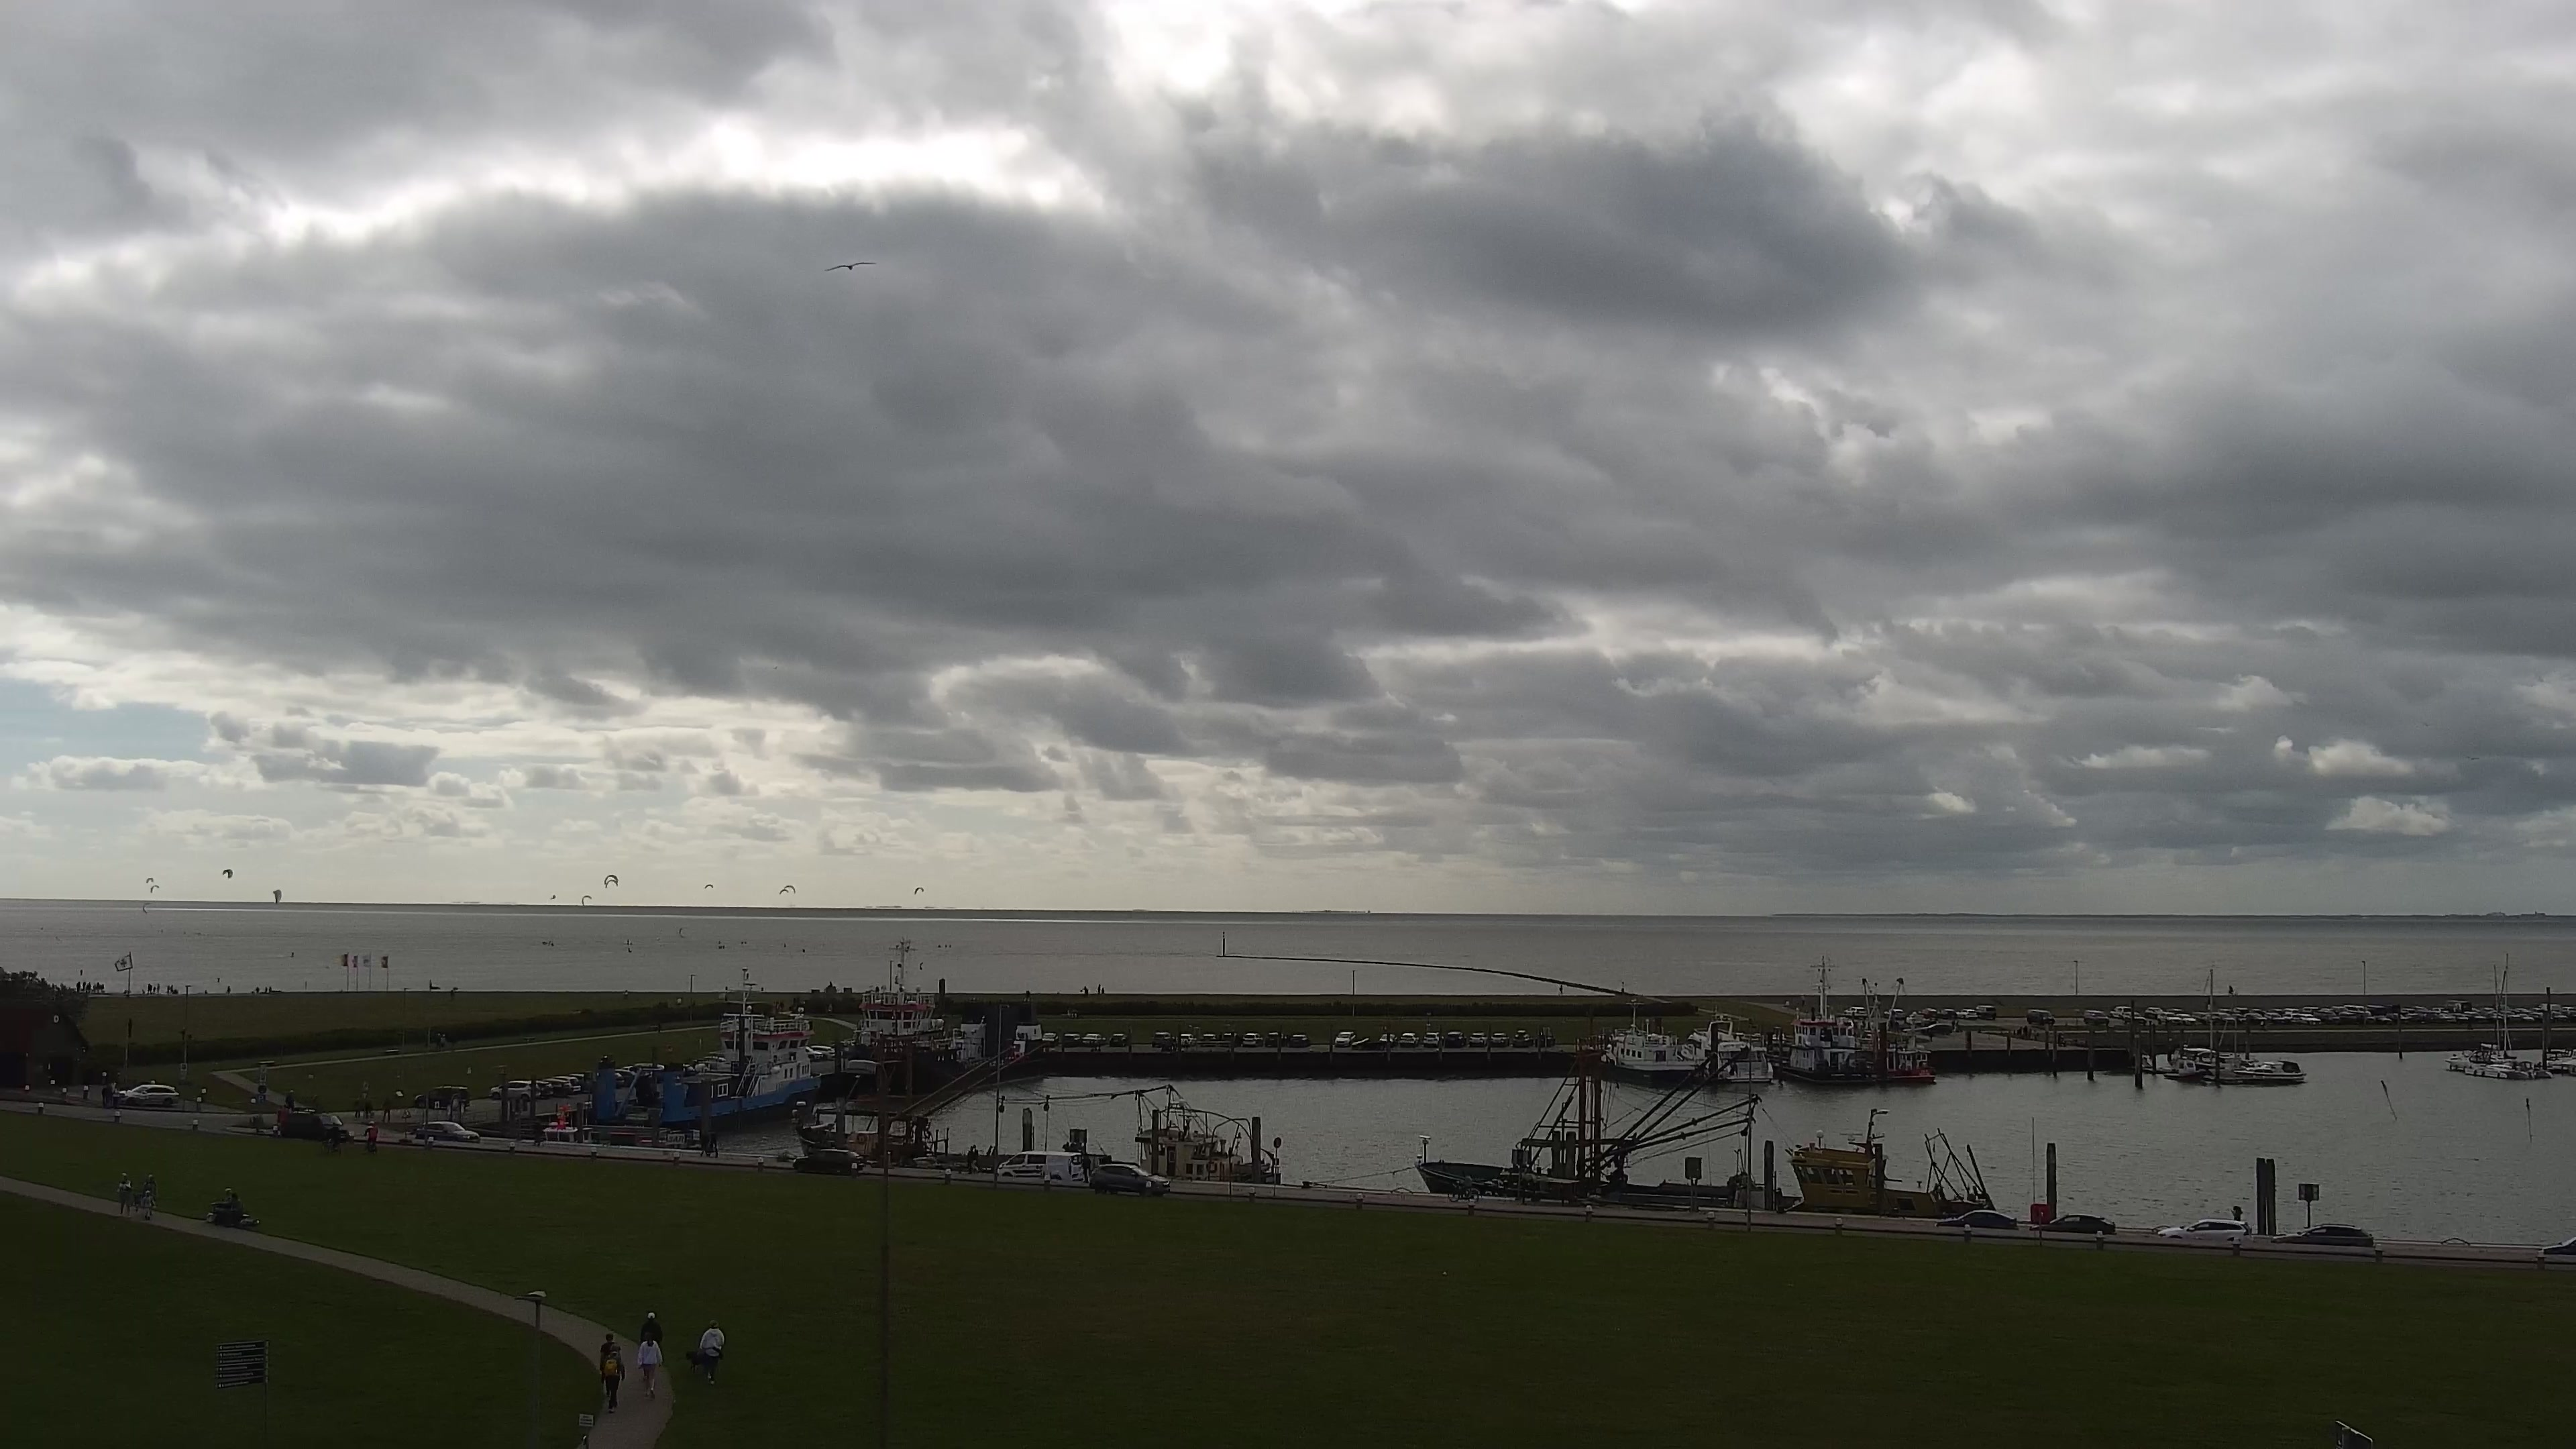human: (635, 1331, 663, 1402), (698, 1319, 725, 1387), (600, 1342, 626, 1413), (599, 1332, 621, 1400), (639, 1309, 662, 1349), (116, 1172, 133, 1217), (142, 1172, 157, 1206), (219, 1187, 233, 1223), (226, 1192, 241, 1227), (142, 1189, 155, 1220), (364, 1120, 378, 1151), (1458, 1171, 1471, 1197), (969, 1144, 979, 1174), (1080, 1152, 1090, 1183), (206, 1186, 215, 1223), (327, 1121, 339, 1148), (699, 1128, 709, 1157), (708, 1130, 718, 1159), (966, 1145, 974, 1175), (131, 1187, 142, 1211), (101, 1083, 110, 1109), (382, 1096, 391, 1123), (532, 1120, 542, 1147), (284, 1088, 294, 1111), (353, 1096, 361, 1118), (435, 1032, 442, 1053), (109, 1078, 117, 1093), (441, 1032, 447, 1052), (366, 1098, 373, 1116), (127, 1018, 133, 1038), (179, 1026, 186, 1040), (1070, 1007, 1078, 1018), (1558, 983, 1564, 996), (2228, 984, 2234, 996), (87, 981, 91, 994), (1097, 983, 1102, 996), (1801, 994, 1806, 1008), (156, 982, 160, 994), (147, 983, 152, 995), (76, 981, 81, 993), (82, 980, 87, 993), (92, 983, 97, 994), (227, 985, 231, 996), (657, 1023, 661, 1034), (1082, 985, 1088, 997), (255, 985, 260, 995), (170, 984, 174, 994), (166, 984, 170, 994), (95, 981, 100, 993), (268, 985, 272, 993), (624, 989, 629, 1000), (152, 985, 156, 994), (101, 983, 105, 993), (264, 985, 268, 994), (1101, 986, 1105, 995), (142, 989, 146, 996), (174, 988, 178, 994), (251, 991, 254, 997), (217, 977, 220, 983), (205, 989, 207, 996), (291, 951, 294, 957)
land: (1089, 1162, 1171, 1196), (995, 1150, 1083, 1181), (2270, 1222, 2374, 1244), (2157, 1218, 2252, 1242), (792, 1147, 865, 1175), (2029, 1212, 2116, 1235), (1935, 1209, 2018, 1230), (413, 1083, 470, 1111), (415, 1120, 480, 1142), (119, 1084, 180, 1107), (489, 1079, 541, 1101), (1447, 1181, 1481, 1203), (1265, 1032, 1309, 1048), (2540, 1234, 2575, 1254), (550, 1075, 582, 1095), (541, 1078, 571, 1097), (2026, 1008, 2056, 1026), (321, 1138, 343, 1159), (1919, 1022, 1953, 1034), (2329, 1005, 2357, 1021), (361, 1134, 380, 1157), (809, 1044, 835, 1060), (2083, 1010, 2110, 1026), (2121, 1010, 2148, 1026), (614, 1067, 633, 1087), (1334, 1030, 1357, 1048), (1422, 1032, 1444, 1049), (1513, 1030, 1534, 1048), (1446, 1031, 1468, 1048), (1081, 1032, 1106, 1047), (2343, 1003, 2371, 1016), (2444, 1000, 2471, 1012), (804, 1044, 823, 1061), (1399, 1032, 1419, 1049), (535, 1081, 554, 1099), (1061, 1032, 1082, 1047), (1975, 1004, 1996, 1020), (1843, 1006, 1867, 1019), (2109, 1004, 2133, 1019), (2365, 1004, 2388, 1017), (1108, 1032, 1127, 1047), (1151, 1031, 1171, 1047), (1378, 1033, 1397, 1049), (1468, 1032, 1488, 1046), (1490, 1031, 1509, 1046), (2156, 1012, 2182, 1024), (2210, 1012, 2235, 1025), (2314, 1011, 2339, 1023), (2463, 1011, 2487, 1022), (1177, 1032, 1197, 1047), (1242, 1032, 1264, 1048), (2190, 1010, 2211, 1024), (2243, 1012, 2267, 1025), (1535, 1034, 1556, 1046), (1884, 1008, 1906, 1020), (1935, 1007, 1956, 1019), (2174, 1014, 2196, 1026), (2262, 1012, 2284, 1024), (2388, 1012, 2410, 1025), (1042, 1032, 1059, 1047), (1222, 1032, 1239, 1047), (1200, 1032, 1217, 1046), (1955, 1008, 1978, 1019), (2298, 1013, 2320, 1024), (2143, 1006, 2162, 1018), (2400, 1007, 2419, 1018), (1917, 1006, 1937, 1017), (2485, 1011, 2505, 1022), (2548, 1010, 2569, 1022), (2501, 1010, 2520, 1020), (2538, 1002, 2561, 1010), (2511, 1007, 2533, 1015), (2231, 1012, 2247, 1024), (2282, 1013, 2300, 1024), (2300, 1005, 2320, 1014), (2372, 1014, 2391, 1024), (2450, 1012, 2468, 1023), (2527, 1011, 2544, 1020), (613, 1072, 625, 1089), (2165, 1007, 2184, 1015), (2233, 1007, 2251, 1015), (2438, 1013, 2455, 1022), (2479, 1006, 2496, 1015), (2516, 1012, 2532, 1021), (2414, 1006, 2430, 1014), (2561, 1006, 2576, 1014), (2430, 1006, 2449, 1013), (633, 1061, 643, 1073), (2264, 1008, 2284, 1014), (2282, 1008, 2300, 1014)
sea: (1411, 1009, 1994, 1220), (788, 1002, 1281, 1183), (593, 964, 821, 1125), (842, 936, 1046, 1073), (1761, 954, 1873, 1085), (1595, 997, 1698, 1087), (2481, 951, 2544, 1073), (2462, 962, 2529, 1080), (1680, 1017, 1775, 1085), (2171, 969, 2234, 1068), (534, 1106, 669, 1148), (2204, 990, 2256, 1067), (1866, 1031, 1936, 1085), (2231, 1059, 2306, 1085), (2161, 1057, 2204, 1083), (2444, 1048, 2489, 1065), (2500, 1074, 2552, 1078)
